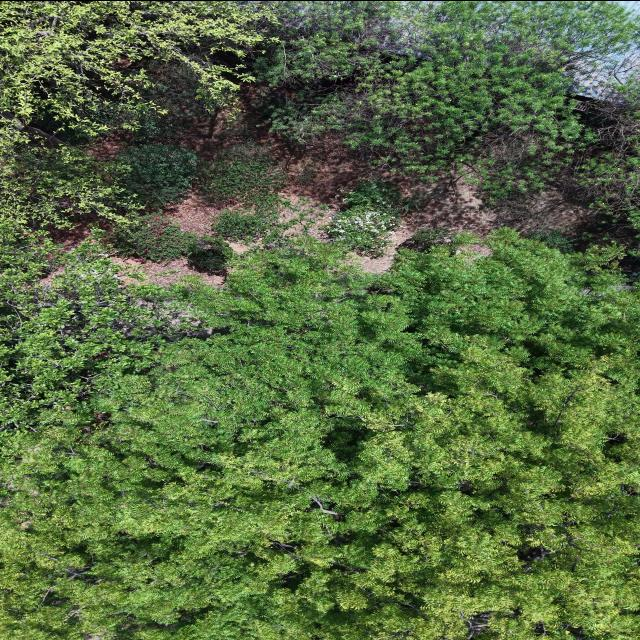DRY_AREA: (169, 85, 588, 272), (180, 85, 590, 245), (159, 84, 370, 205), (349, 176, 587, 272), (178, 85, 369, 204), (359, 175, 589, 272), (359, 175, 588, 272), (358, 176, 500, 272), (389, 174, 589, 235), (264, 132, 372, 206), (111, 256, 223, 285), (112, 256, 223, 285), (163, 192, 219, 234), (48, 214, 103, 250)
ROOFTOP_BUILDING: (566, 44, 639, 110), (570, 46, 639, 102)
VEGETATION_TREE: (0, 1, 639, 639), (1, 230, 639, 639), (1, 1, 636, 230), (254, 1, 637, 224), (1, 246, 192, 639), (256, 1, 586, 191), (1, 1, 273, 226), (1, 1, 272, 133), (0, 119, 140, 233), (555, 78, 639, 229), (195, 146, 287, 241), (195, 146, 286, 216), (324, 180, 401, 256), (114, 144, 198, 206), (113, 211, 199, 260), (212, 208, 278, 241), (187, 237, 231, 270), (401, 227, 454, 250), (528, 230, 575, 251)
